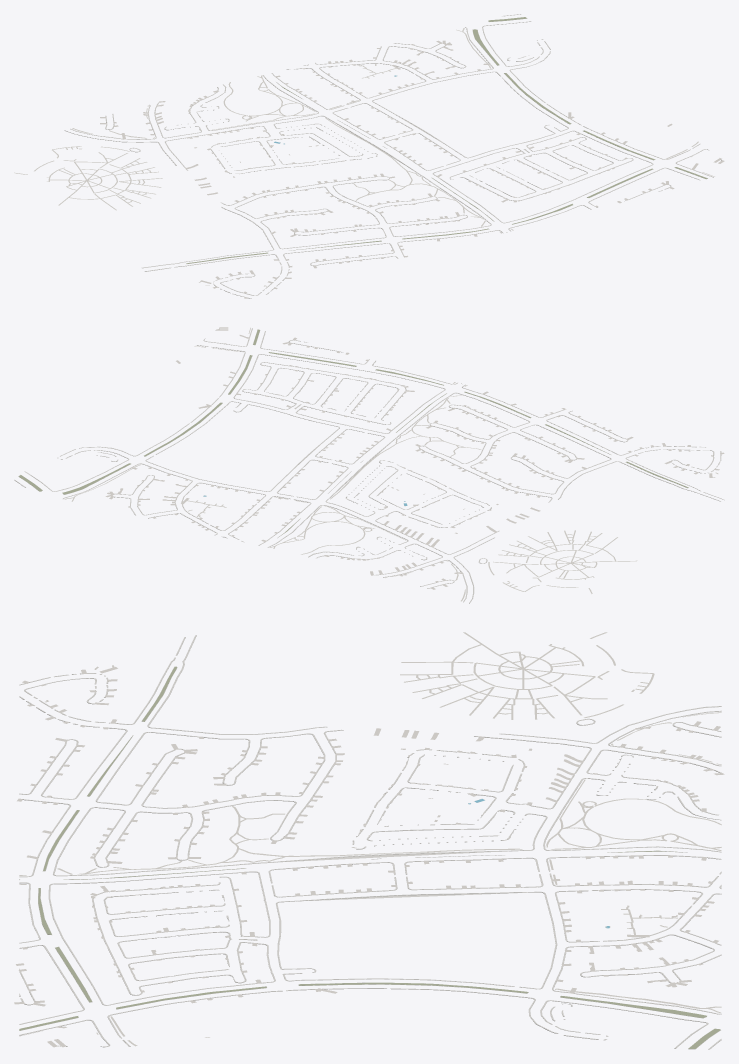
File: ground_r4_c4.glb
The picture shows the model from 3 angles, top to bottom: view 1: azimuth 30°, elevation 25°; view 2: azimuth 150°, elevation 25°; view 3: azimuth 270°, elevation 25°; orthographic projection. The views are drawn at different scales.
Visible parts, largest first — view 1: sidewalks, driveways, paths, medians; view 2: sidewalks, driveways, paths, medians; view 3: sidewalks, driveways, paths, medians.
Part boxes in pixels (x1,y1,x2,y2): sidewalks: [64, 14, 721, 298]; driveways: [100, 40, 724, 298]; paths: [14, 28, 714, 286]; medians: [186, 17, 707, 263]; sidewalks: [14, 328, 724, 603]; driveways: [105, 327, 724, 589]; paths: [64, 327, 718, 601]; medians: [18, 329, 688, 537]; sidewalks: [19, 635, 721, 1049]; driveways: [14, 667, 724, 1047]; paths: [19, 632, 721, 1046]; medians: [19, 666, 720, 1049].
Size of the model in its own units: 1127 by 30.58 by 797.
